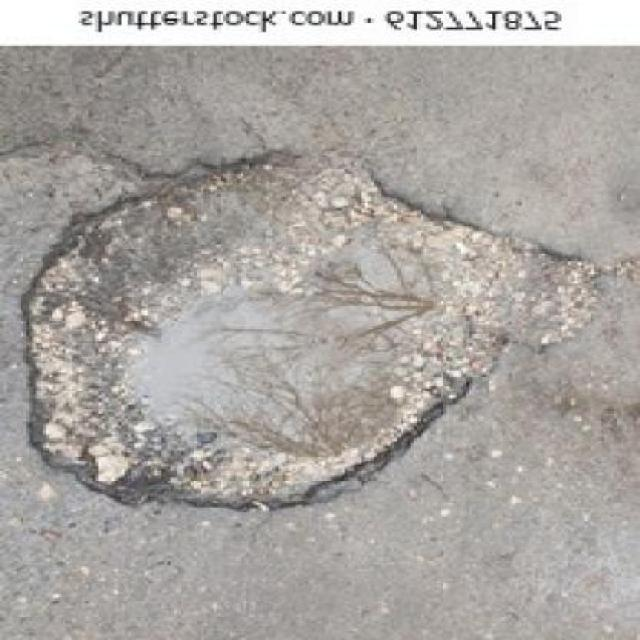Pothole: (24, 152, 595, 507)
